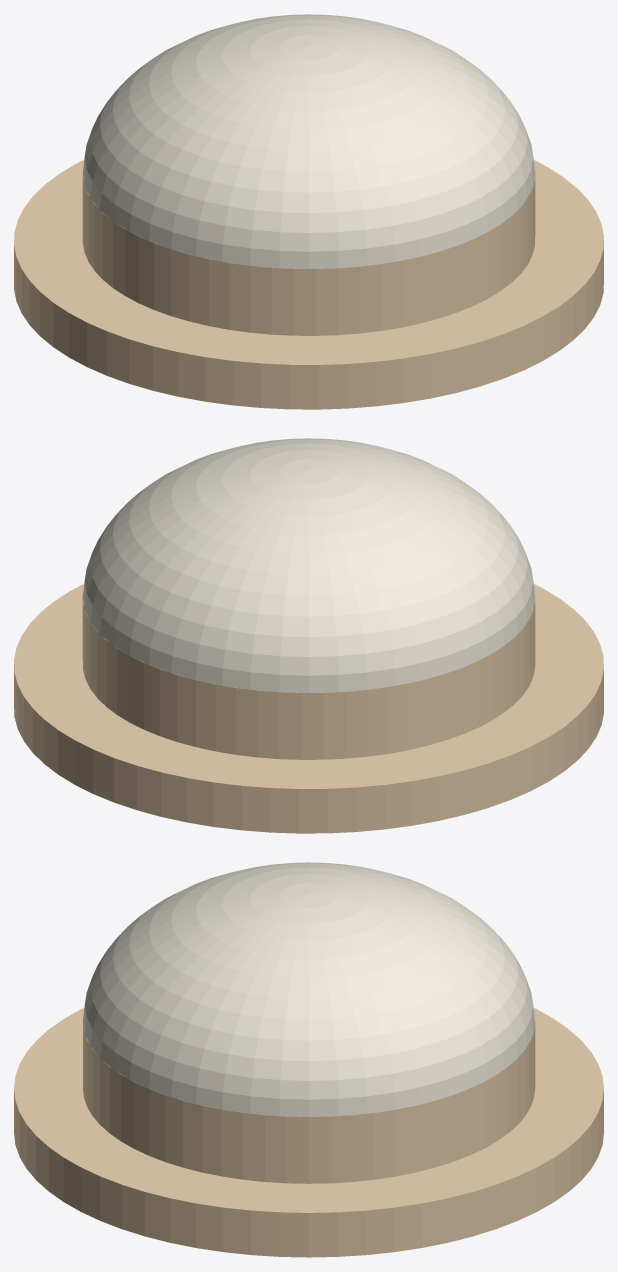
File: stupa_s3.glb
3 renders of one model, top to bottom at view 1: azimuth 30°, elevation 25°; view 2: azimuth 150°, elevation 25°; view 3: azimuth 270°, elevation 25°, orthographic.
Visible parts, largest first — view 1: stupa; view 2: stupa; view 3: stupa.
Part boxes in pixels (<box>): stupa: <box>14,14,603,409</box>; stupa: <box>14,438,603,833</box>; stupa: <box>14,862,603,1257</box>.
Size of the model in its own units: 22.42 by 10 by 22.42.
